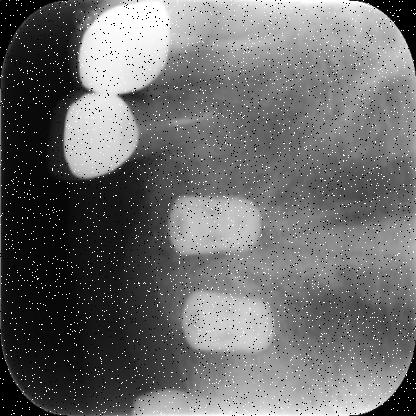ITI: (165, 194, 264, 259), (180, 293, 275, 353)
